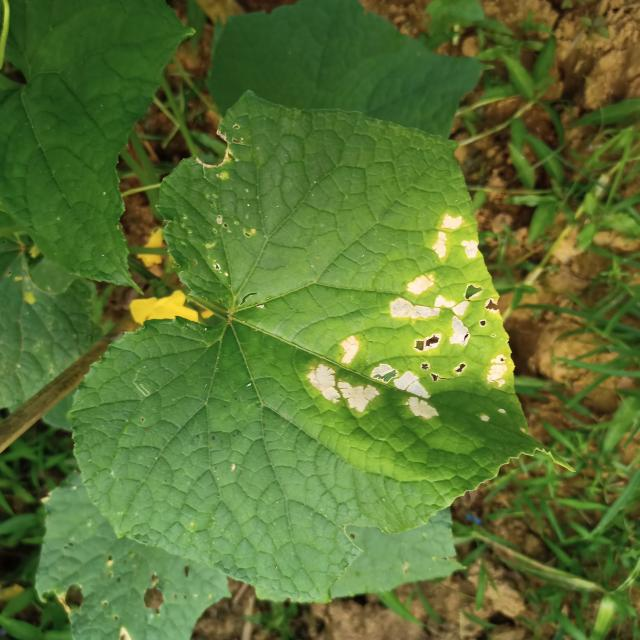disease_cucumber: (304, 208, 518, 444)
